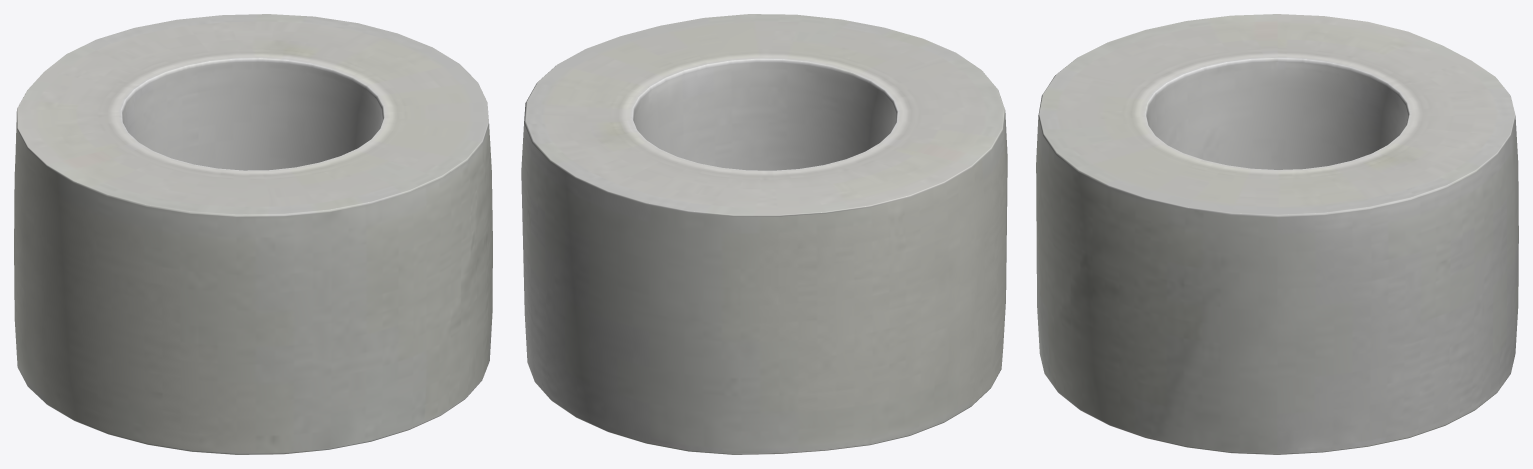
The picture shows the model from 3 angles, left to right: view 1: azimuth 30°, elevation 25°; view 2: azimuth 150°, elevation 25°; view 3: azimuth 270°, elevation 25°; orthographic projection.
Parts seen in each view (by area): view 1: medical_tape; view 2: medical_tape; view 3: medical_tape.
Boxes of the visible parts, x1,y1,x2,y2 form: medical_tape: (14, 14, 492, 454); medical_tape: (521, 14, 1007, 454); medical_tape: (1036, 14, 1518, 454).
Size of the model in its own units: 0.0453 by 0.025 by 0.0452.
Materials: 1 (1 with a texture image).
